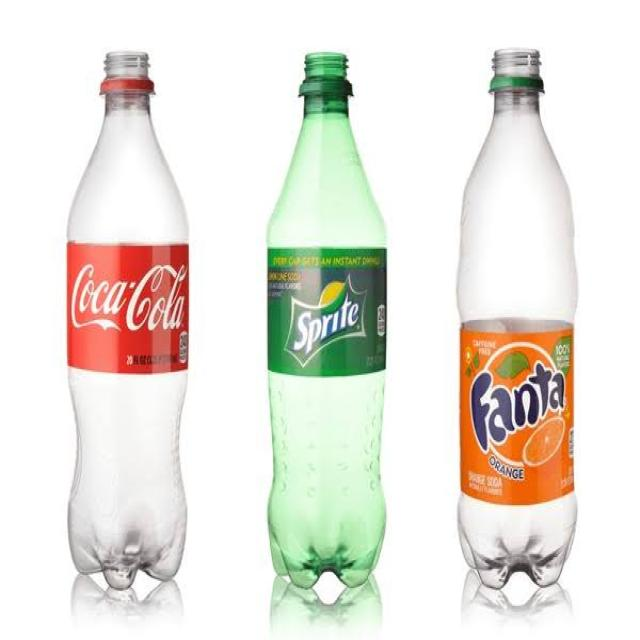plastic: (252, 34, 406, 598), (59, 35, 198, 601), (450, 26, 586, 599)
